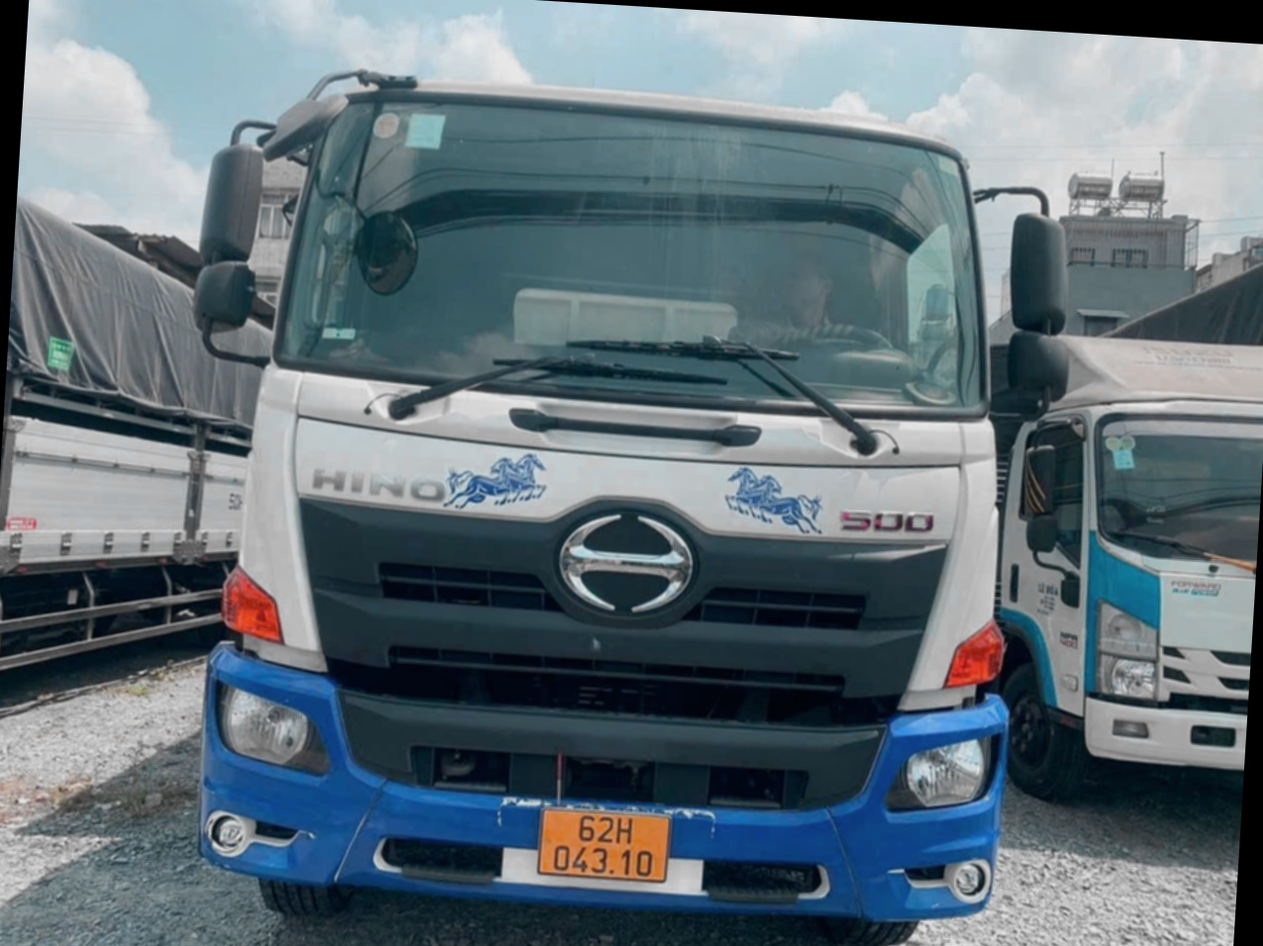Bien-so: (580, 759, 703, 825)
